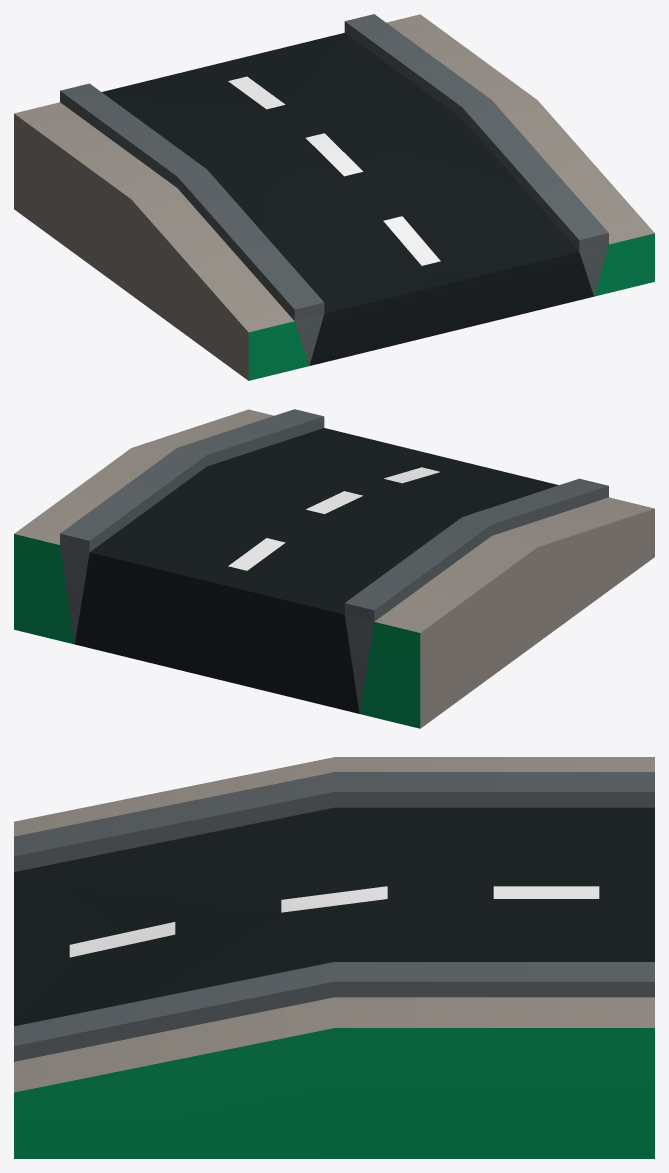
Rendered from CARRETERA BAJADA.fbx.
3 renders of one model, top to bottom at view 1: azimuth 30°, elevation 25°; view 2: azimuth 150°, elevation 25°; view 3: azimuth 270°, elevation 25°, orthographic. The views are drawn at different scales.
Visible parts, largest first — view 1: normal.081; view 2: normal.081; view 3: normal.081.
Part boxes in pixels (x1=…): normal.081: x1=14, y1=14, x2=654, y2=380; normal.081: x1=14, y1=409, x2=654, y2=728; normal.081: x1=14, y1=757, x2=654, y2=1158.
Bounding box in the file's own units: 900 × 227 × 900.
1 material, 1 textured.
